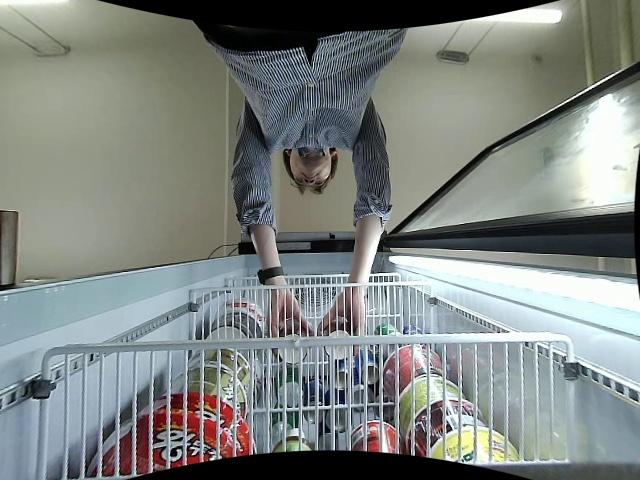00_hand: (320, 286, 366, 353), (266, 292, 306, 334)
06_nuguri_S: (273, 318, 308, 364)
